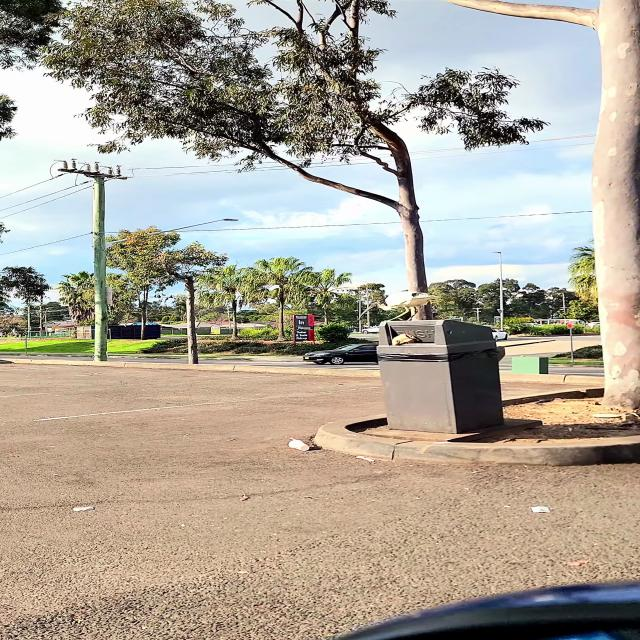Birds-Ibis: (358, 290, 440, 322)
